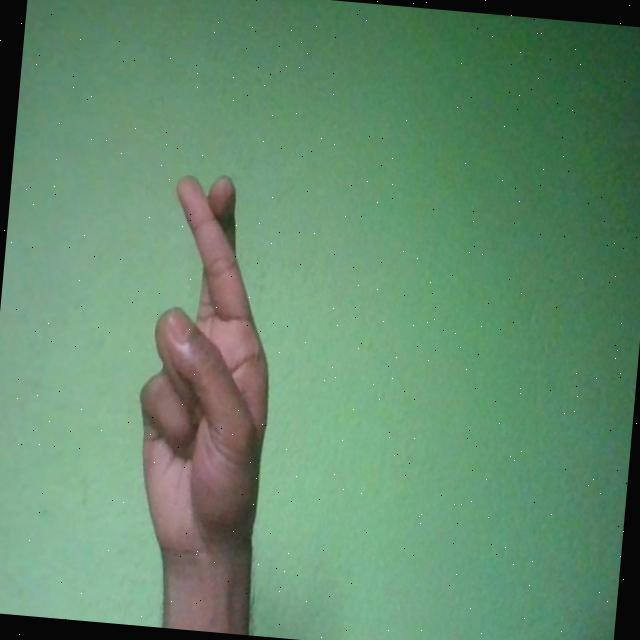Ok: (125, 168, 287, 574)
